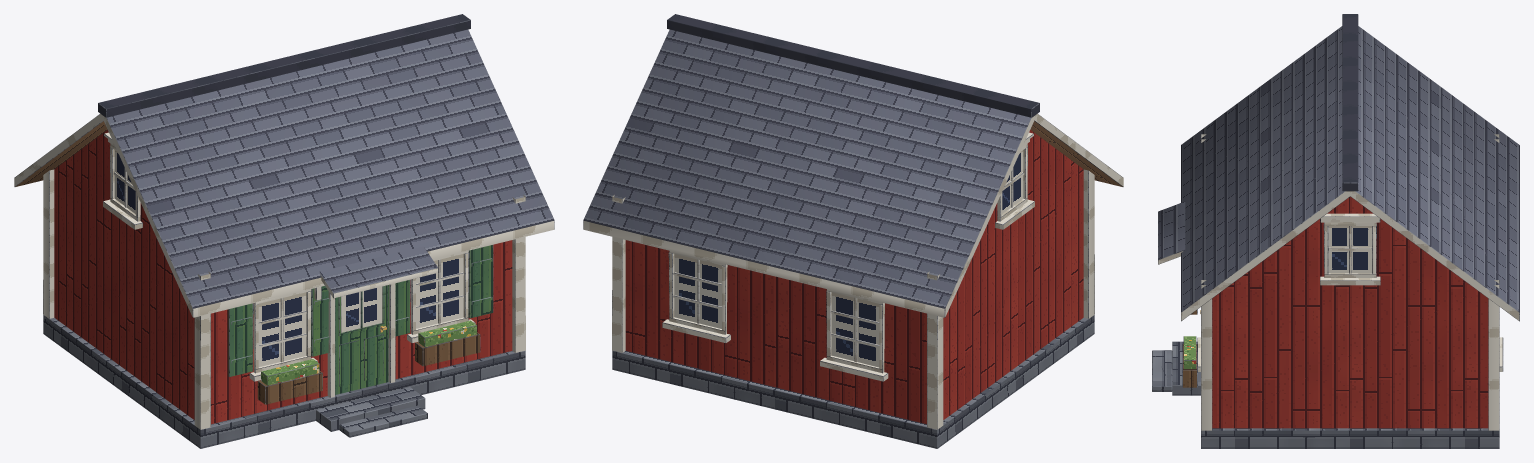
Rendered from town_house_4.glb.
3 views of the same model, side by side, from view 1: azimuth 30°, elevation 25°; view 2: azimuth 150°, elevation 25°; view 3: azimuth 270°, elevation 25° (orthographic). The views are drawn at different scales.
Visible parts, largest first — view 1: town_house_5; view 2: town_house_5; view 3: town_house_5.
Part boxes in pixels (x1,y1,x2,y2): town_house_5: [14, 14, 554, 448]; town_house_5: [583, 14, 1123, 448]; town_house_5: [1152, 14, 1519, 448].
Bounding box in the file's own units: 6.96 × 5.29 × 6.4.
11 materials, 11 textured.
